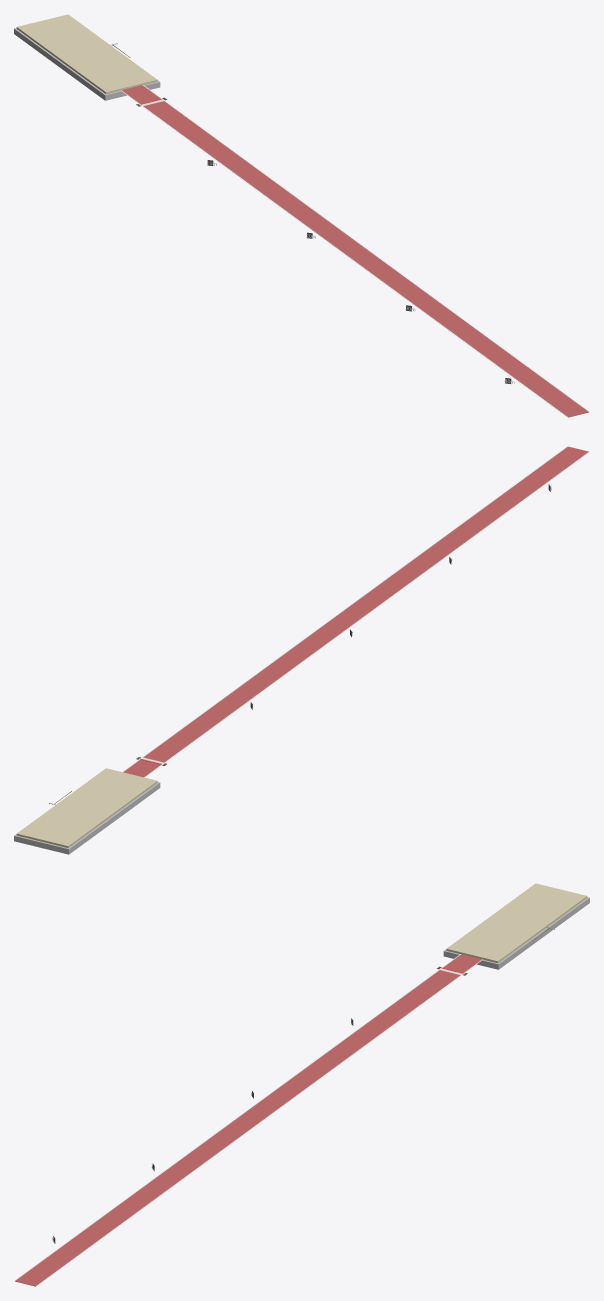
File: Long Jump Setup.glb
3 renders of one model, top to bottom at view 1: azimuth 30°, elevation 25°; view 2: azimuth 150°, elevation 25°; view 3: azimuth 330°, elevation 25°, orthographic.
Parts seen in each view (by area): view 1: LJ_Runway_Main, LJ_Sand_Volume, LJ_Pit_Border_L, LJ_Runway_Line_L, LJ_Runway_Line_R; view 2: LJ_Runway_Main, LJ_Sand_Volume, LJ_Pit_Border_L, LJ_Runway_Line_L, LJ_Runway_Line_R; view 3: LJ_Runway_Main, LJ_Sand_Volume, LJ_Pit_Border_R, LJ_Runway_Line_L, LJ_Runway_Line_R.
Part boxes in pixels (<box>): LJ_Runway_Main: <box>121,85,588,417</box>; LJ_Sand_Volume: <box>16,14,157,94</box>; LJ_Pit_Border_L: <box>15,29,105,99</box>; LJ_Runway_Line_L: <box>121,90,567,417</box>; LJ_Runway_Line_R: <box>142,85,589,411</box>; LJ_Runway_Main: <box>123,446,588,777</box>; LJ_Sand_Volume: <box>16,768,157,847</box>; LJ_Pit_Border_L: <box>68,783,159,853</box>; LJ_Runway_Line_L: <box>144,451,589,777</box>; LJ_Runway_Line_R: <box>122,446,567,772</box>; LJ_Runway_Main: <box>15,954,482,1286</box>; LJ_Sand_Volume: <box>446,883,587,963</box>; LJ_Pit_Border_R: <box>498,898,588,968</box>; LJ_Runway_Line_L: <box>14,954,461,1280</box>; LJ_Runway_Line_R: <box>36,959,482,1286</box>.
Bounding box in the file's own units: 3.6 × 0.6 × 54.1.
